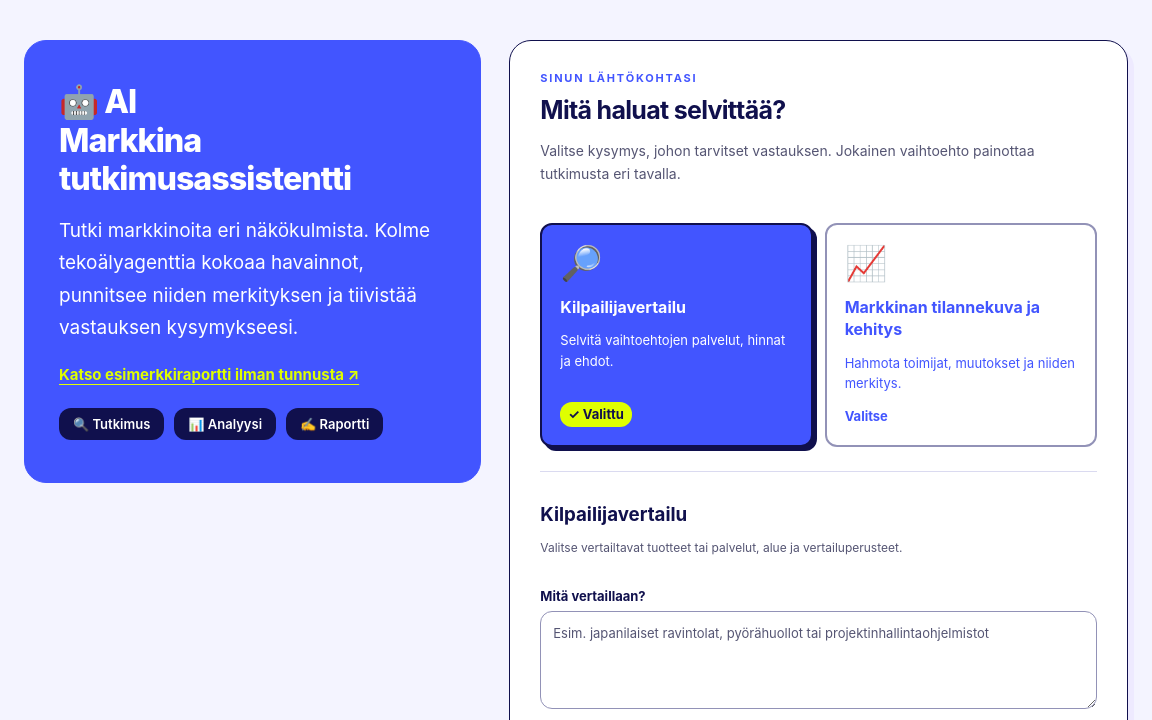
Test: two choices preserve unfinished answers without offering demand research
The image size is (1152, 720).
Replace the text in the text box labelled "Mitä vertaillaan?" with "Pyörähuollot" at x=819, y=660, box [540,611,1097,709]
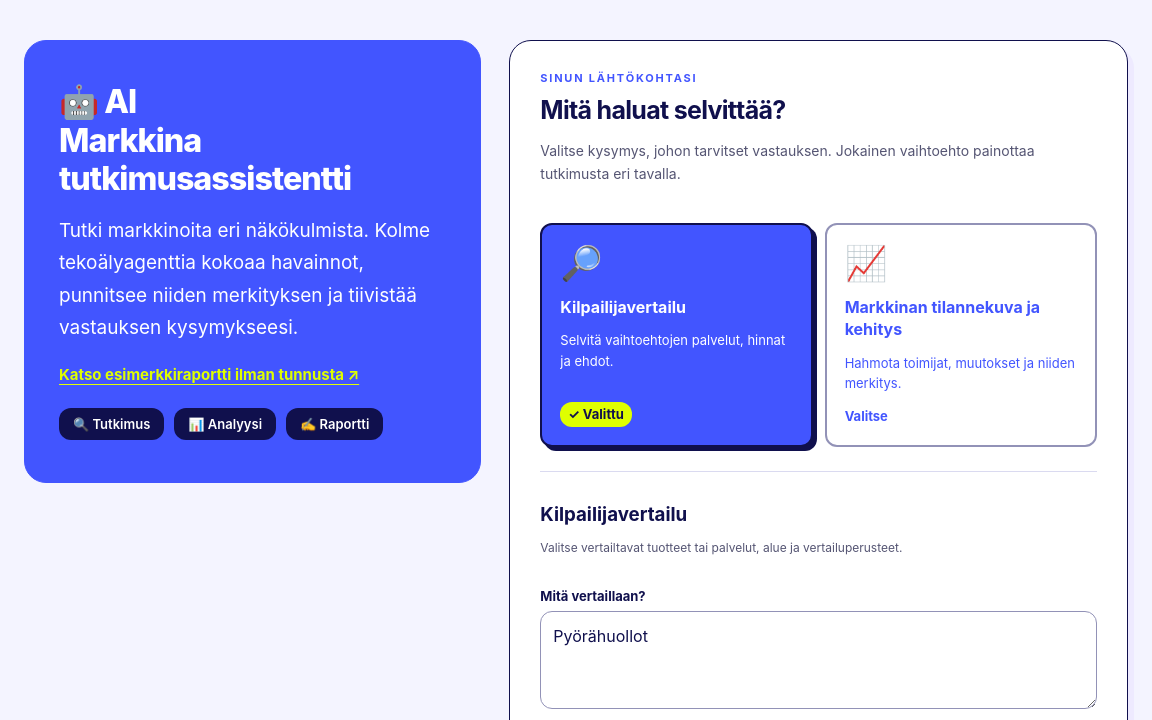
Click the button "Markkinan tilannekuva ja kehitys" at x=866, y=263, box [825,223,1097,447]
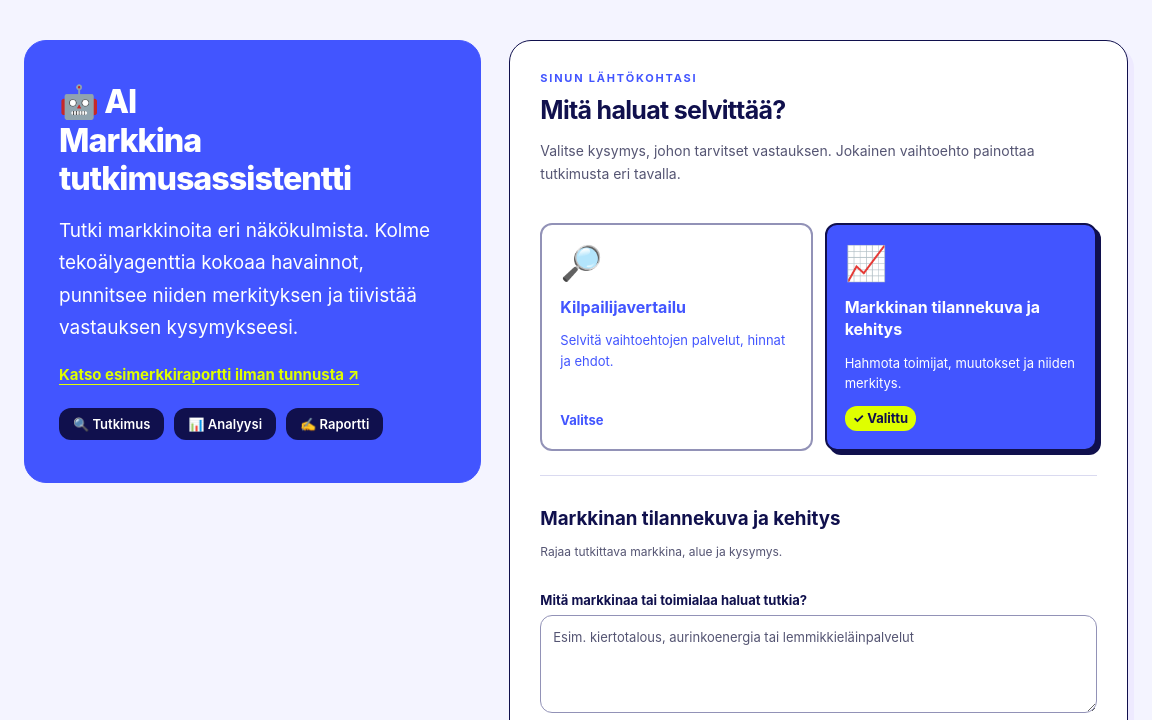
Expected: the label labelled "Mitä vertaillaan?" is gone
Click the button "Kilpailijavertailu" at x=676, y=337, box [540,223,813,451]
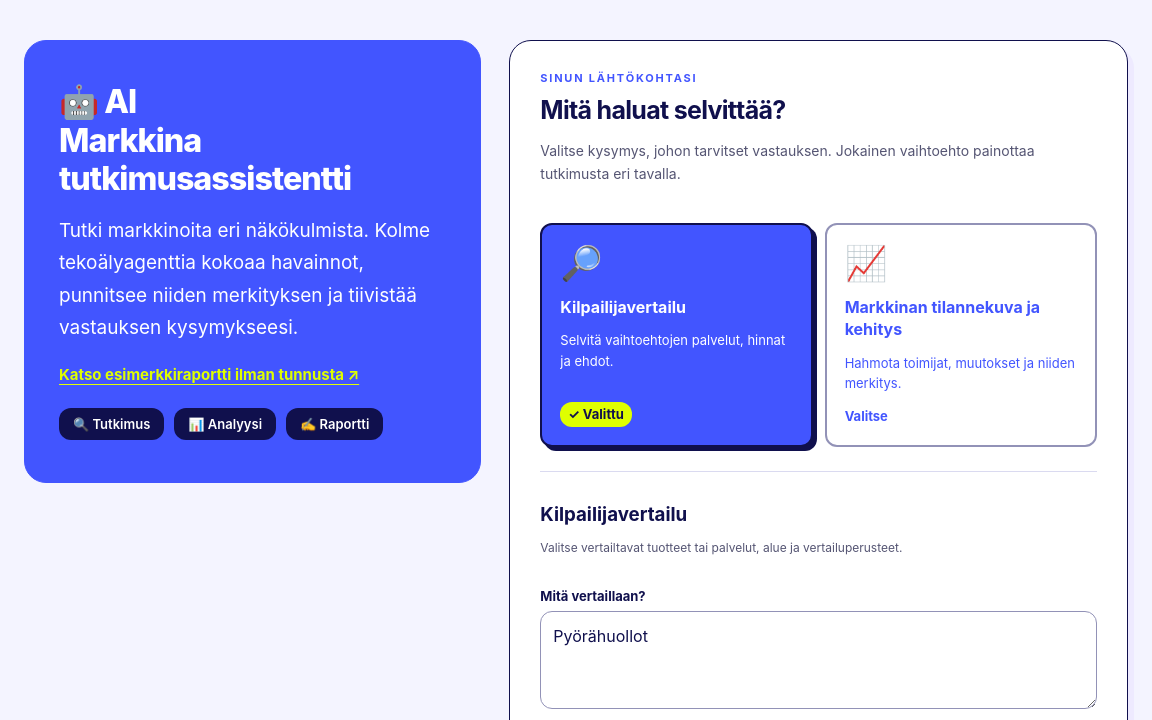
Expected: the text box labelled "Mitä vertaillaan?" holds "Pyörähuollot", [540,611,1097,709]
